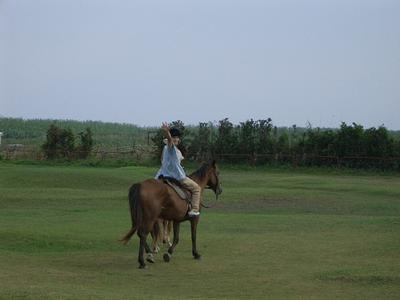person: (154, 122, 202, 217)
